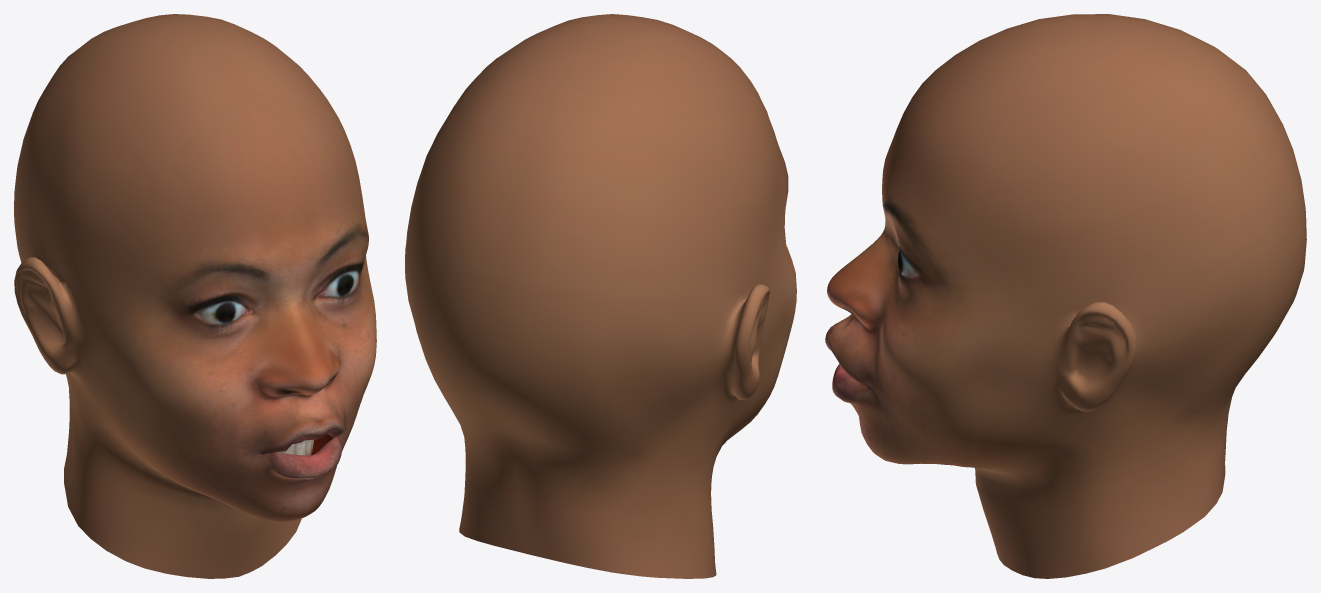
File: v332_obj_Phonemech,J,sh.obj
3 renders of one model, left to right at view 1: azimuth 30°, elevation 25°; view 2: azimuth 150°, elevation 25°; view 3: azimuth 270°, elevation 25°, orthographic. The views are drawn at different scales.
Visible parts, largest first — view 1: HeadHires, Mouth; view 2: HeadHires; view 3: HeadHires.
Boxes of the visible parts, <box> form: HeadHires: <box>14,14,376,578</box>; Mouth: <box>275,434,333,455</box>; HeadHires: <box>405,14,796,578</box>; HeadHires: <box>825,14,1306,578</box>.
Size of the model in its own units: 187 by 282 by 234.
